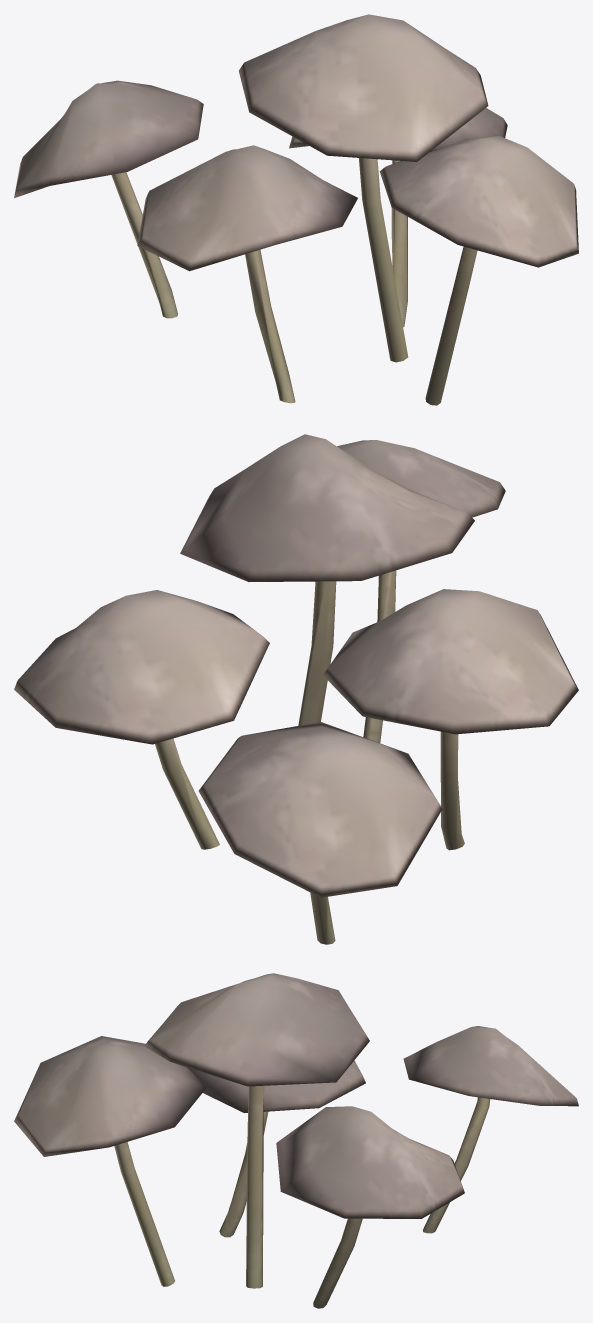
The model's file is mushroom.glb.
3 renders of one model, top to bottom at view 1: azimuth 30°, elevation 25°; view 2: azimuth 150°, elevation 25°; view 3: azimuth 270°, elevation 25°, orthographic. The views are drawn at different scales.
Visible parts, largest first — view 1: Mushroom_Common; view 2: Mushroom_Common; view 3: Mushroom_Common.
Boxes of the visible parts, x1,y1,x2,y2 form: Mushroom_Common: (14, 14, 578, 405); Mushroom_Common: (14, 434, 578, 944); Mushroom_Common: (14, 973, 578, 1308).
Bounding box in the file's own units: 0.5637 × 0.4635 × 0.7791.
Materials: 1 (1 with a texture image).
